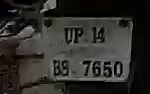0: (113, 59, 126, 84)
1: (91, 23, 98, 47)
4: (97, 26, 106, 46)
5: (101, 57, 112, 79)
6: (92, 56, 102, 80)
7: (81, 56, 92, 78)
B: (51, 56, 61, 76)
P: (74, 23, 83, 48)
S: (60, 57, 70, 78)
U: (64, 25, 74, 48)
